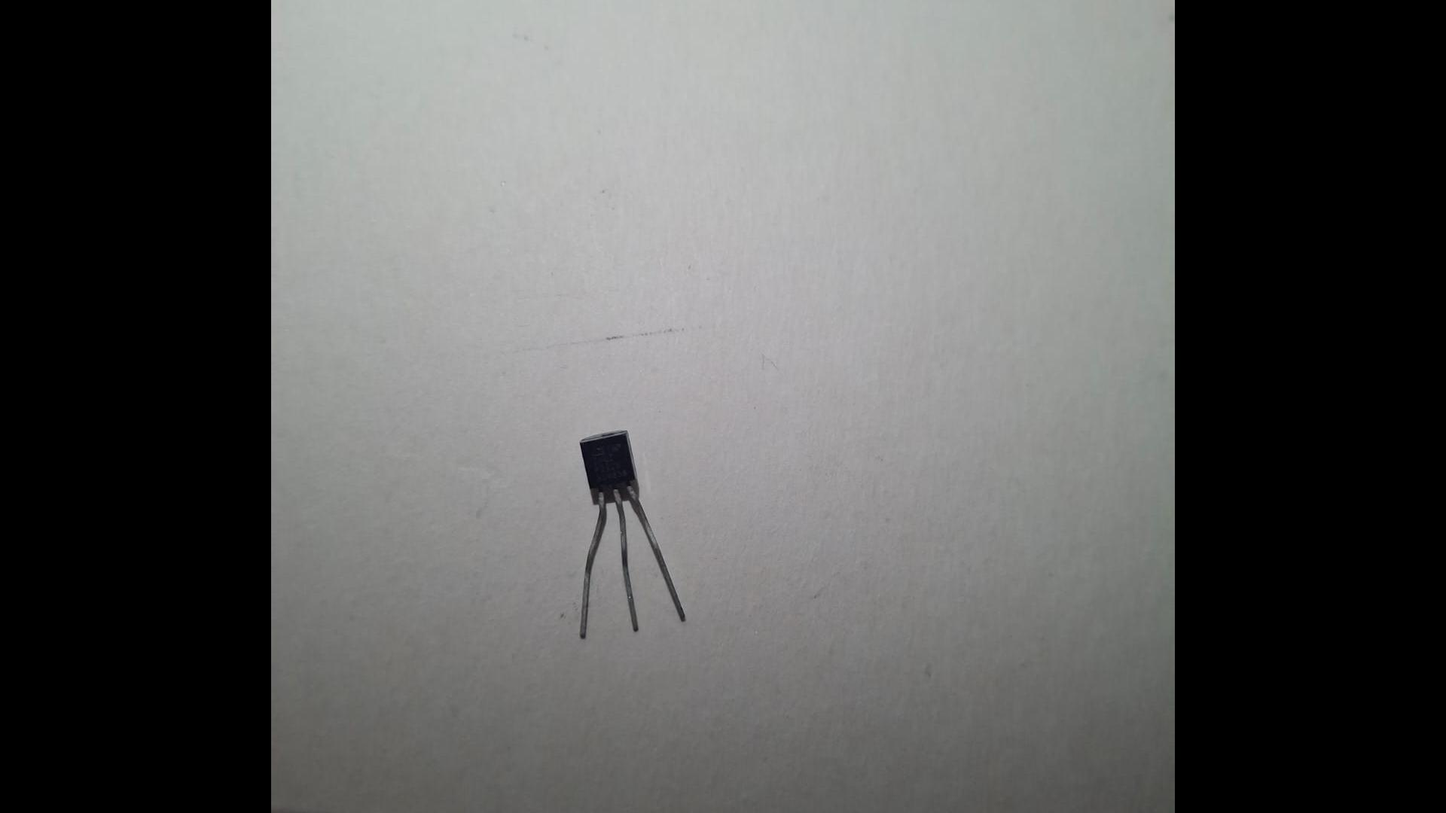Transistor: (532, 394, 705, 681)
